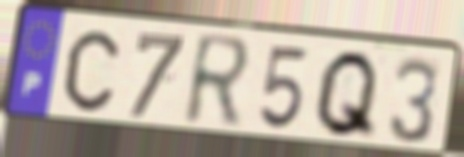3: (389, 52, 439, 147)
5: (258, 42, 311, 132)
7: (126, 30, 188, 121)
C: (62, 27, 122, 115)
Q: (310, 47, 383, 143)
R: (180, 30, 256, 133)
